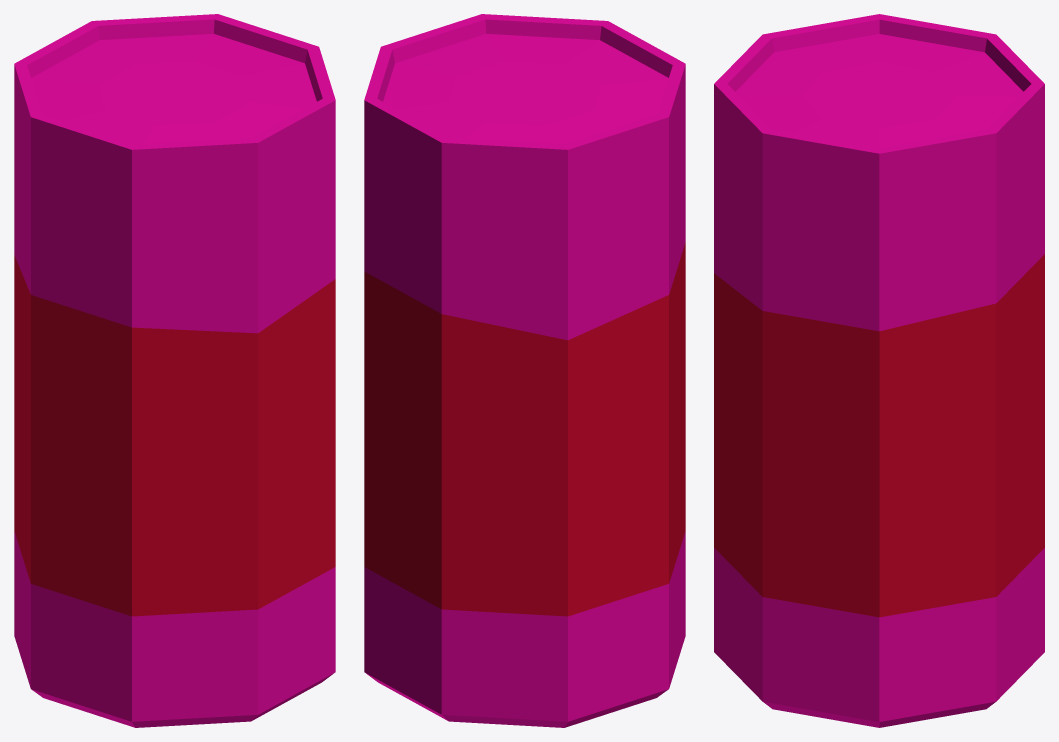
Rendered from GlassOfBeer_01.fbx.
3 views of the same model, side by side, from view 1: azimuth 30°, elevation 25°; view 2: azimuth 150°, elevation 25°; view 3: azimuth 270°, elevation 25° (orthographic).
Parts seen in each view (by area): view 1: GlassOfBeer_01; view 2: GlassOfBeer_01; view 3: GlassOfBeer_01.
Part boxes in pixels (bbox=[...]): GlassOfBeer_01: bbox=[14, 14, 335, 727]; GlassOfBeer_01: bbox=[364, 14, 685, 727]; GlassOfBeer_01: bbox=[714, 14, 1044, 727].
Size of the model in its own units: 2.67 by 5.18 by 2.67.
